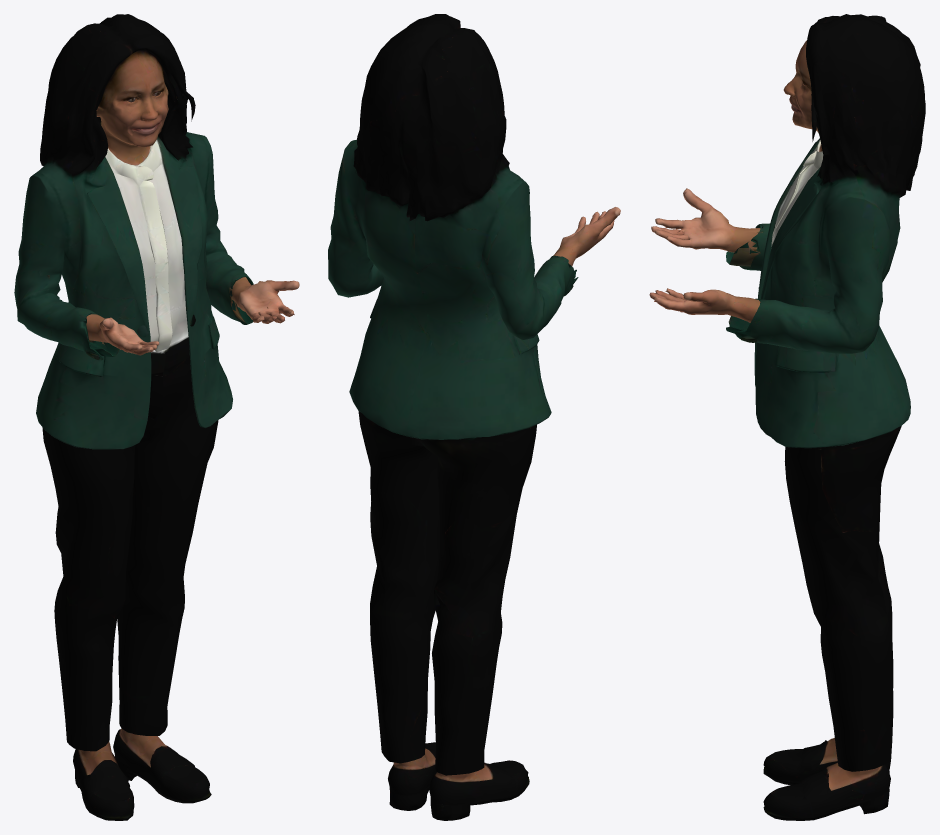
Rendered from speaker-prof-f.glb.
The picture shows the model from 3 angles, left to right: view 1: azimuth 30°, elevation 25°; view 2: azimuth 150°, elevation 25°; view 3: azimuth 270°, elevation 25°; orthographic projection. The views are drawn at different scales.
Parts seen in each view (by area): view 1: geometry_0; view 2: geometry_0; view 3: geometry_0.
Part boxes in pixels (bbox=[...]): geometry_0: bbox=[14, 14, 299, 820]; geometry_0: bbox=[328, 14, 620, 820]; geometry_0: bbox=[649, 14, 925, 820].
Size of the model in its own units: 0.2701 by 0.9502 by 0.3047.
1 material, 1 textured.
